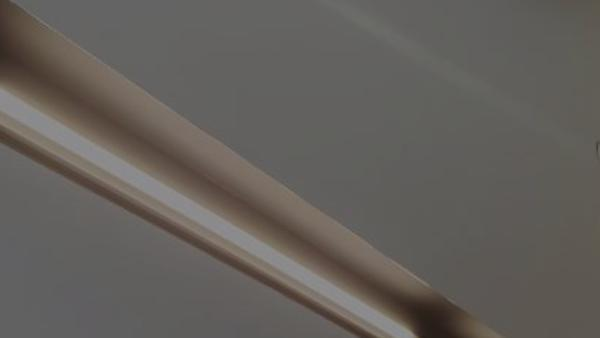light_on: (0, 58, 423, 338)
